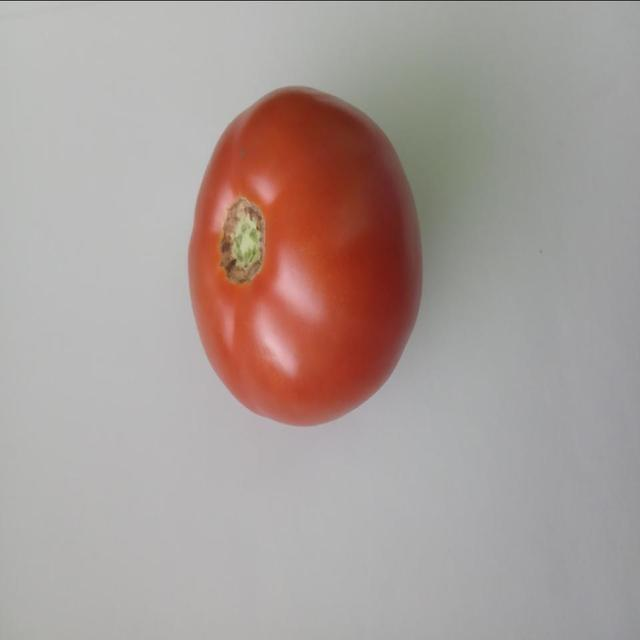Healthy Fruit: (119, 53, 288, 291)
